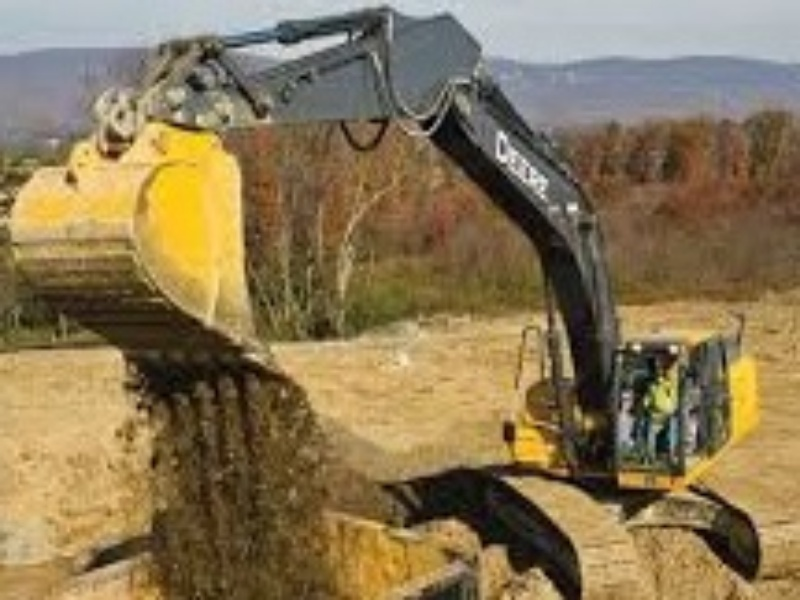wajueji: (435, 285, 786, 600)
